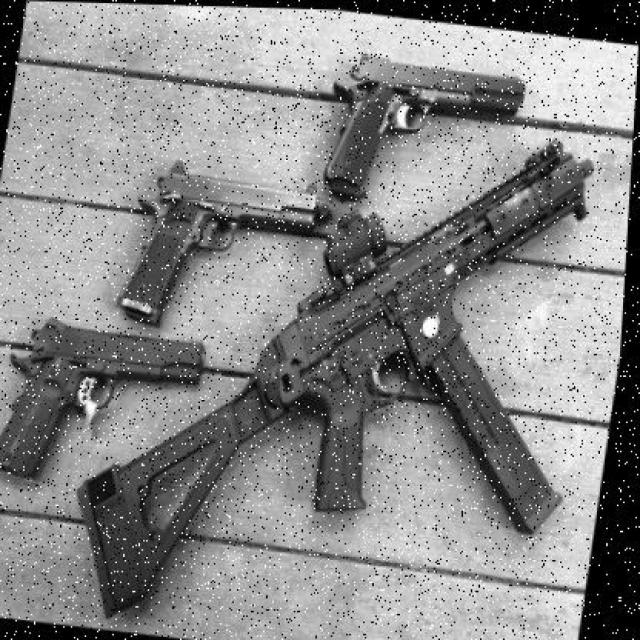weapon: (77, 140, 597, 620), (114, 160, 334, 328), (0, 316, 209, 481), (320, 52, 529, 205)
